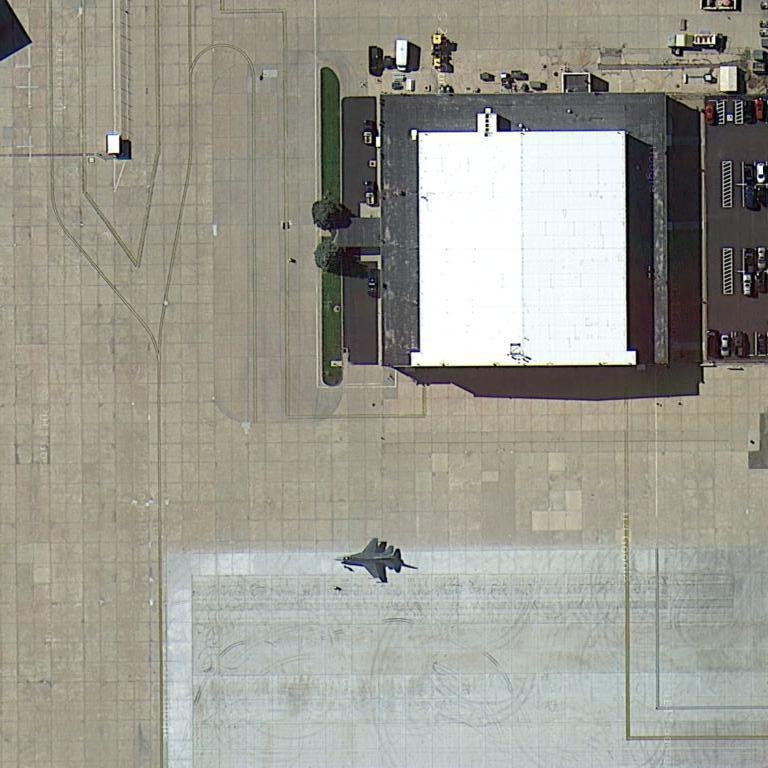F-16: (335, 534, 408, 586)
